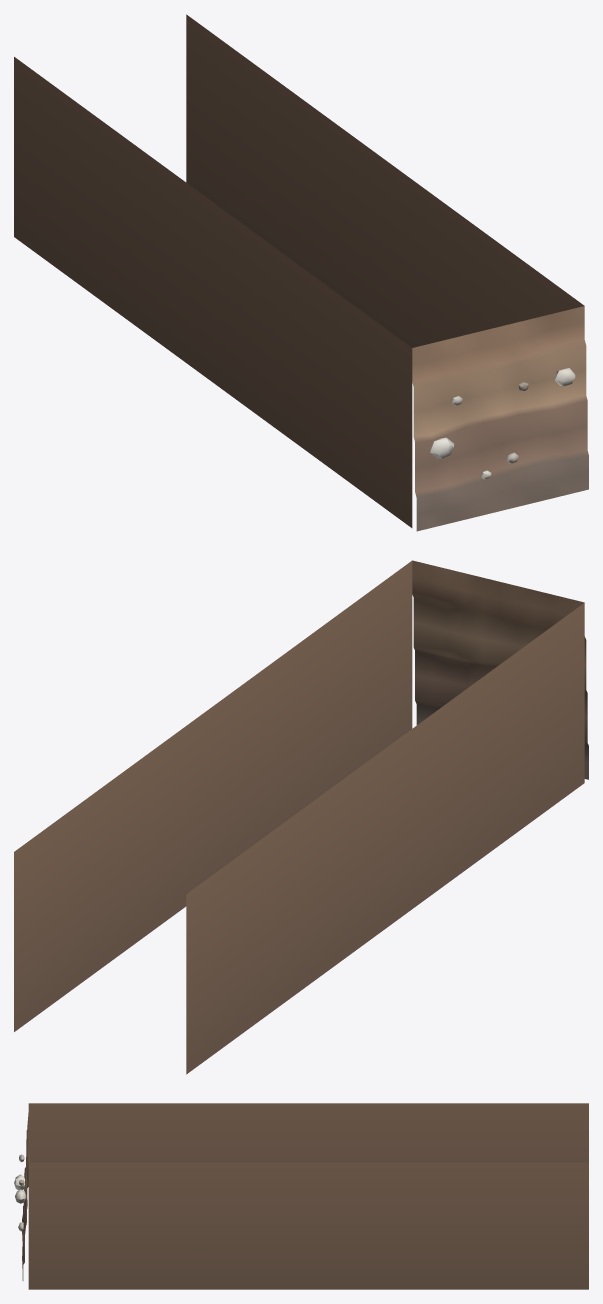
File: ground_earth_3.glb
3 renders of one model, top to bottom at view 1: azimuth 30°, elevation 25°; view 2: azimuth 150°, elevation 25°; view 3: azimuth 270°, elevation 25°, orthographic. The views are drawn at different scales.
Visible parts, largest first — view 1: ground_earth_3; view 2: ground_earth_3; view 3: ground_earth_3.
Part boxes in pixels (x1,y1,x2,y2): ground_earth_3: (14,14,588,531); ground_earth_3: (14,560,588,1074); ground_earth_3: (14,1103,588,1289).
Bounding box in the file's own units: 1 × 1 × 4.11.
